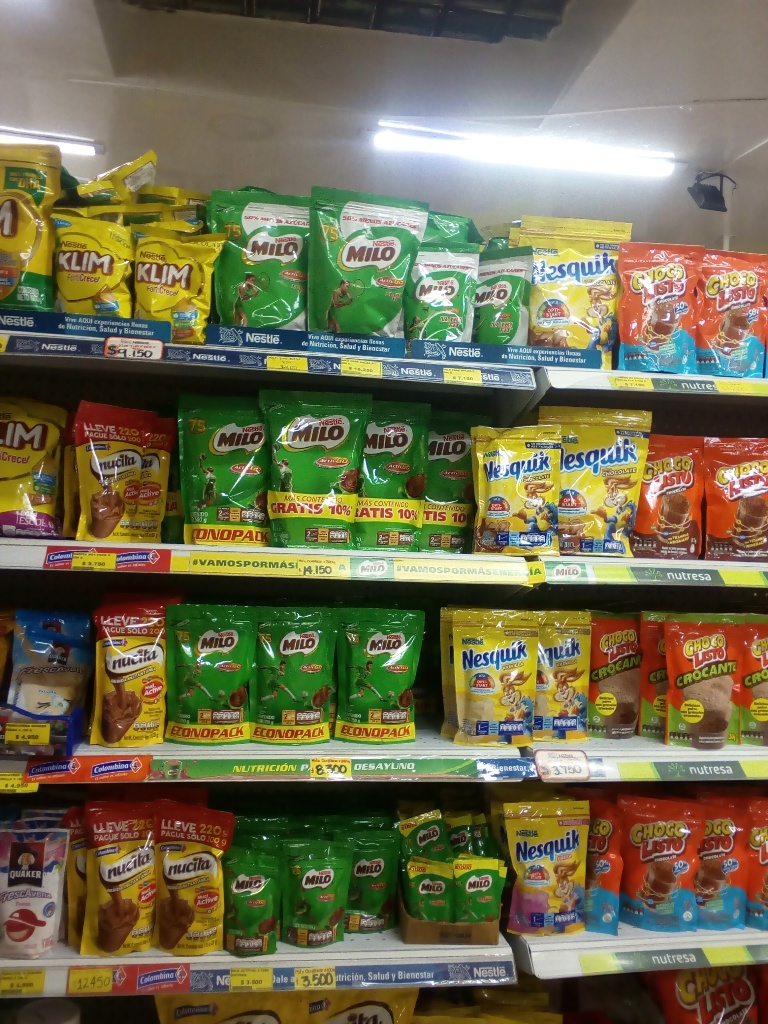COL0170102DYP25000: (587, 608, 653, 745)
COL0170104DYP20000: (582, 801, 625, 937)
COL0170203DYP10000: (221, 848, 285, 964)
COL0170203DYP25000: (171, 603, 259, 747)
COL0170203DYP50000: (178, 381, 276, 548)
COL0170205DYP50000: (218, 192, 314, 329)
COL0170305DYP20000: (500, 802, 589, 936)
COL0170306DYP20000: (442, 599, 531, 753)
